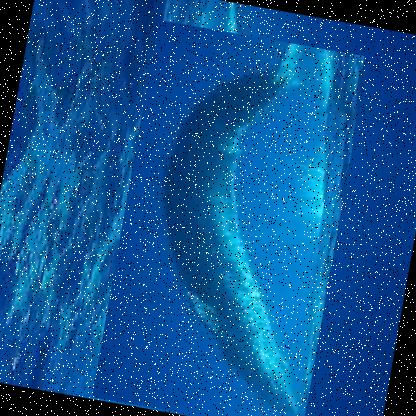blue_whale: (91, 19, 369, 415)
